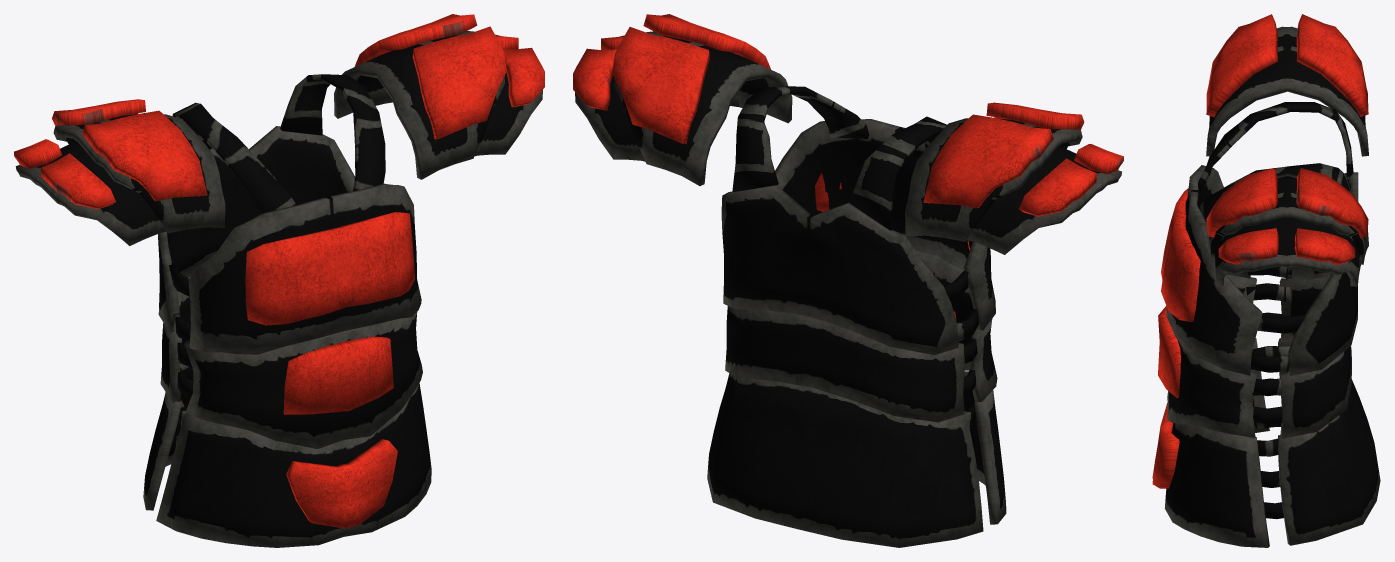
The model's file is demon_husk.glb.
The picture shows the model from 3 angles, left to right: view 1: azimuth 30°, elevation 25°; view 2: azimuth 150°, elevation 25°; view 3: azimuth 270°, elevation 25°; orthographic projection. The views are drawn at different scales.
Visible parts, largest first — view 1: demon_husk_export; view 2: demon_husk_export; view 3: demon_husk_export.
Part boxes in pixels (left/top/right/bottom): demon_husk_export: left=14, top=14, right=544, bottom=547; demon_husk_export: left=573, top=14, right=1123, bottom=547; demon_husk_export: left=1152, top=14, right=1380, bottom=547.
Size of the model in its own units: 0.5524 by 0.4526 by 0.2392.
1 material, 1 textured.
